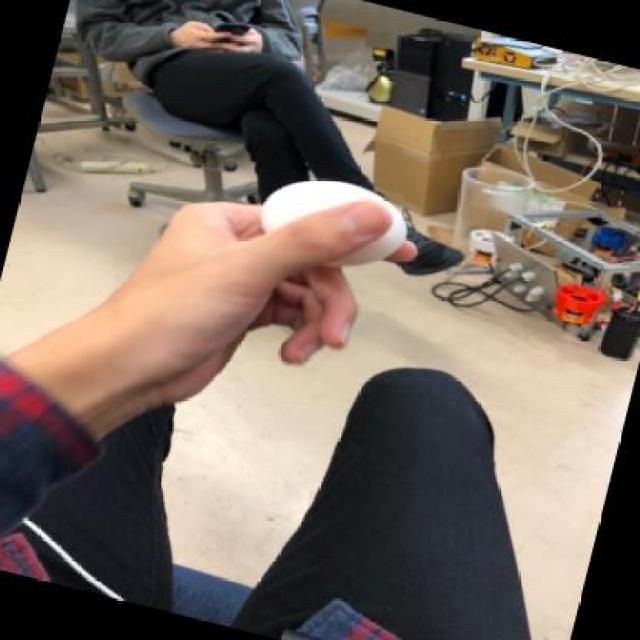egg: (261, 181, 413, 266)
